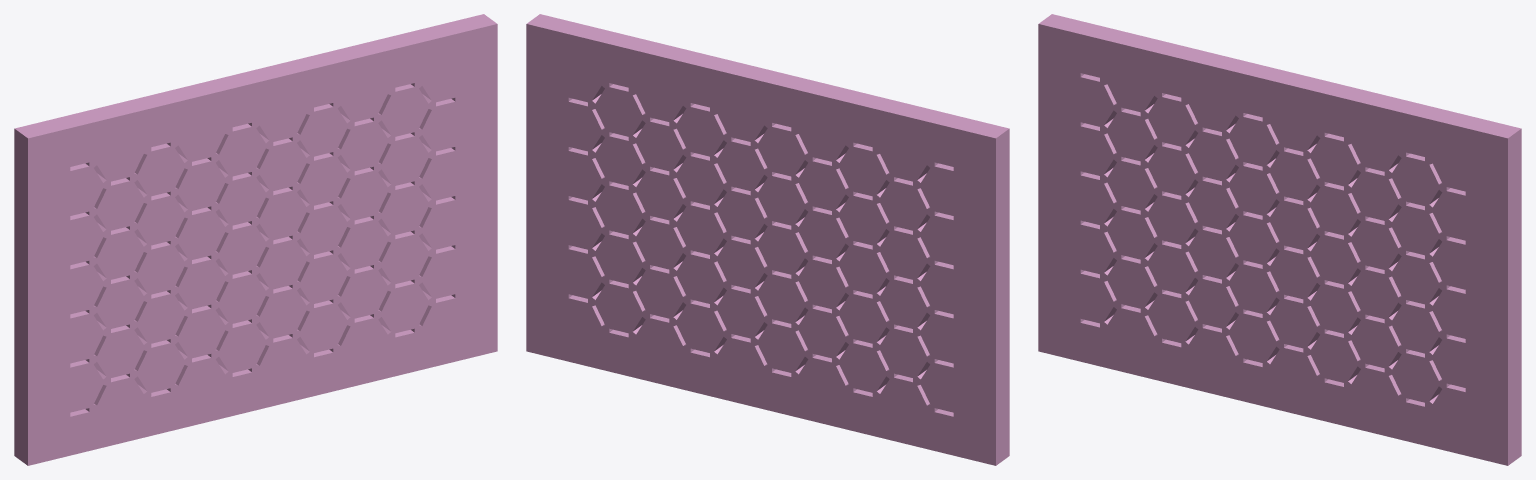
Rendered from kerf_bend_cutter_demo.glb.
3 renders of one model, left to right at view 1: azimuth 30°, elevation 25°; view 2: azimuth 150°, elevation 25°; view 3: azimuth 330°, elevation 25°, orthographic.
Visible parts, largest first — view 1: kerf_bend_panel; view 2: kerf_bend_panel; view 3: kerf_bend_panel.
Part boxes in pixels (box(x1,y1,x2,y2)): kerf_bend_panel: box(14, 14, 497, 465); kerf_bend_panel: box(526, 14, 1009, 465); kerf_bend_panel: box(1038, 14, 1521, 465).
Size of the model in its own units: 60 by 40 by 3.
